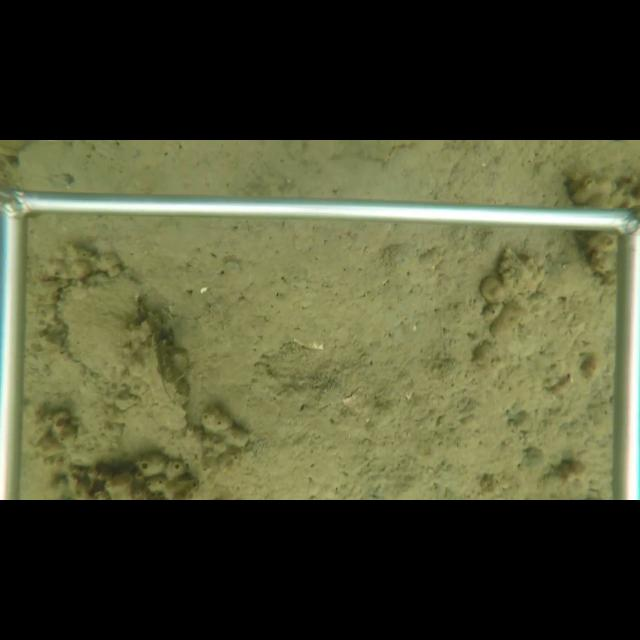Oyster-Closed: (54, 264, 155, 389), (142, 333, 190, 435)
